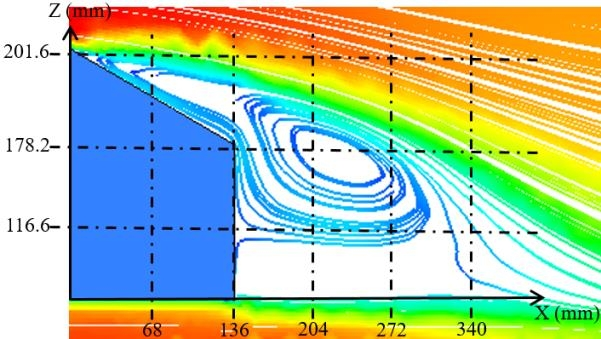vortox: (237, 92, 430, 246)
